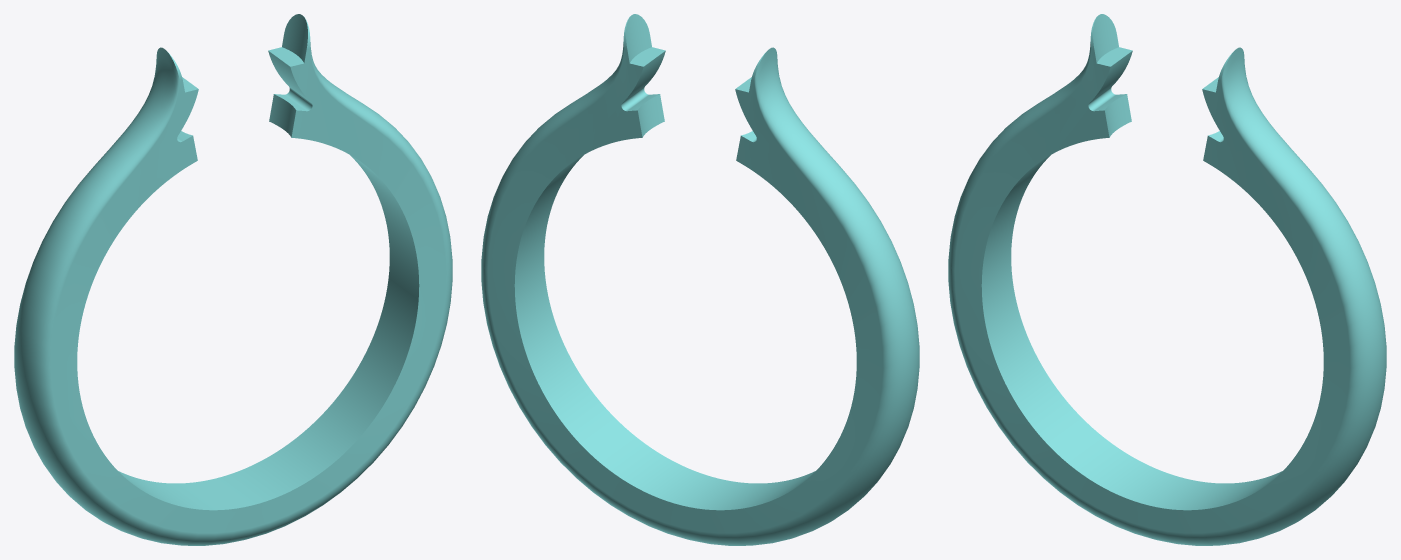
The model's file is shank_plain.glb.
3 renders of one model, left to right at view 1: azimuth 30°, elevation 25°; view 2: azimuth 150°, elevation 25°; view 3: azimuth 330°, elevation 25°, orthographic.
Visible parts, largest first — view 1: METAL_SHANK; view 2: METAL_SHANK; view 3: METAL_SHANK.
Part boxes in pixels (x1,y1,x2,y2): METAL_SHANK: (14,14,452,545); METAL_SHANK: (481,14,919,545); METAL_SHANK: (948,14,1386,545).
Size of the model in its own units: 0.0225 by 0.0254 by 0.00335.
